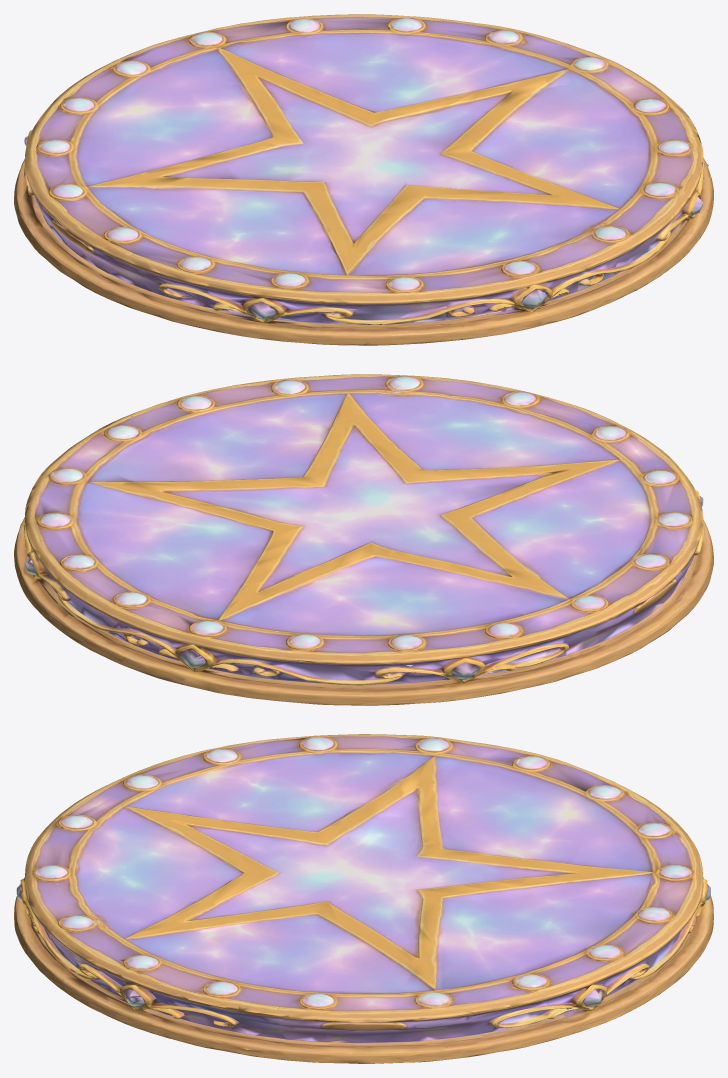
File: dais.medium.glb
3 renders of one model, top to bottom at view 1: azimuth 30°, elevation 25°; view 2: azimuth 150°, elevation 25°; view 3: azimuth 270°, elevation 25°, orthographic.
Parts seen in each view (by area): view 1: tripo_node_b1dd5c26-9161-42a7-b5c6-c64be3246d3b; view 2: tripo_node_b1dd5c26-9161-42a7-b5c6-c64be3246d3b; view 3: tripo_node_b1dd5c26-9161-42a7-b5c6-c64be3246d3b.
Boxes of the visible parts, left/top/right/bottom form: tripo_node_b1dd5c26-9161-42a7-b5c6-c64be3246d3b: left=14, top=14, right=713, bottom=345; tripo_node_b1dd5c26-9161-42a7-b5c6-c64be3246d3b: left=14, top=374, right=713, bottom=705; tripo_node_b1dd5c26-9161-42a7-b5c6-c64be3246d3b: left=14, top=734, right=713, bottom=1063.
Size of the model in its own units: 5.2 by 0.3999 by 5.2.
Materials: 1 (1 with a texture image).
